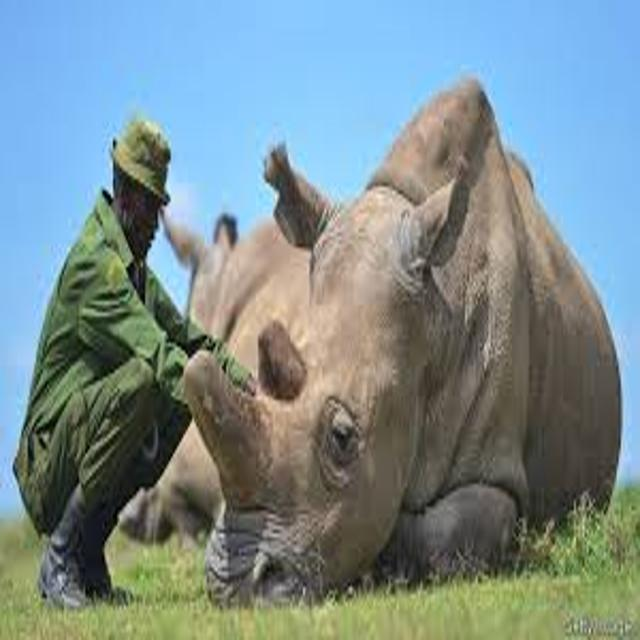ranger: (3, 83, 286, 627)
rhino: (97, 47, 636, 626)
